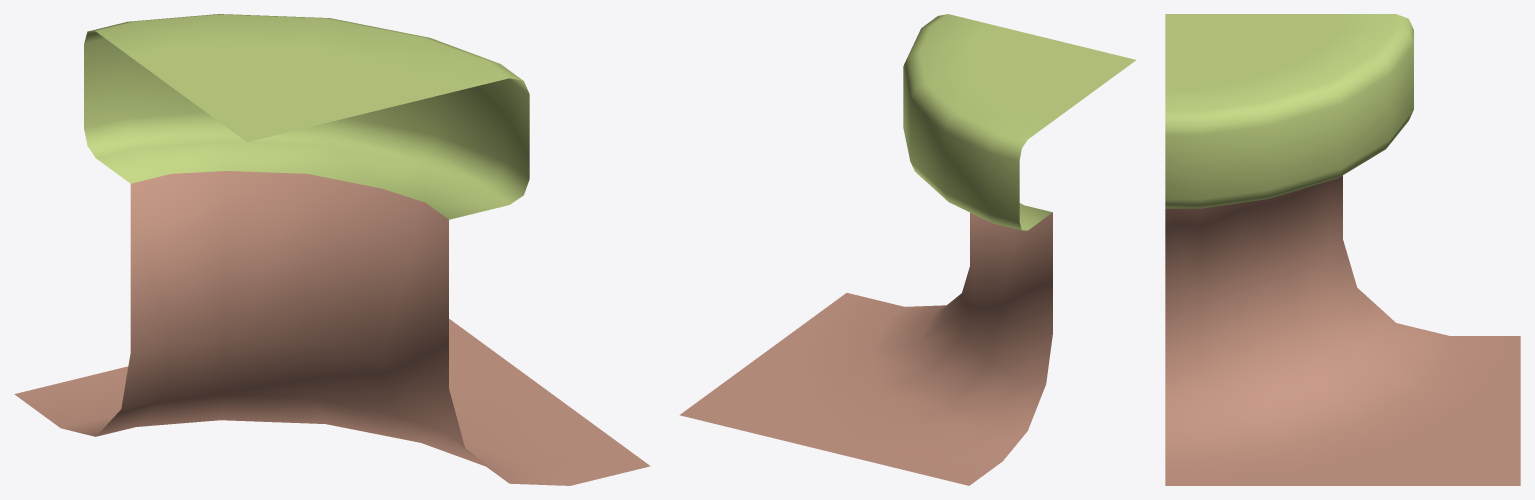
Rendered from LandCornerOut.glb.
The picture shows the model from 3 angles, left to right: view 1: azimuth 30°, elevation 25°; view 2: azimuth 150°, elevation 25°; view 3: azimuth 270°, elevation 25°; orthographic projection. The views are drawn at different scales.
Visible parts, largest first — view 1: Land.Corner.Out; view 2: Land.Corner.Out; view 3: Land.Corner.Out.
Part boxes in pixels (bbox=[...]): Land.Corner.Out: bbox=[14, 14, 650, 485]; Land.Corner.Out: bbox=[679, 14, 1135, 485]; Land.Corner.Out: bbox=[1165, 14, 1520, 485].
Size of the model in its own units: 2 by 2 by 2.
